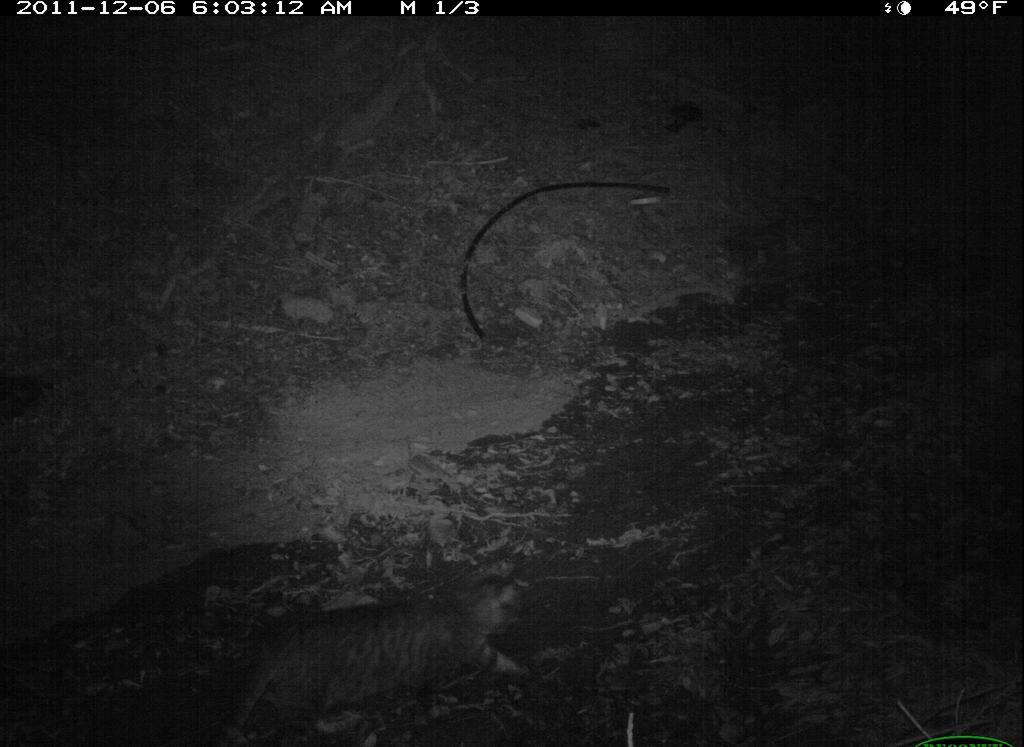cat: (210, 565, 541, 744)
